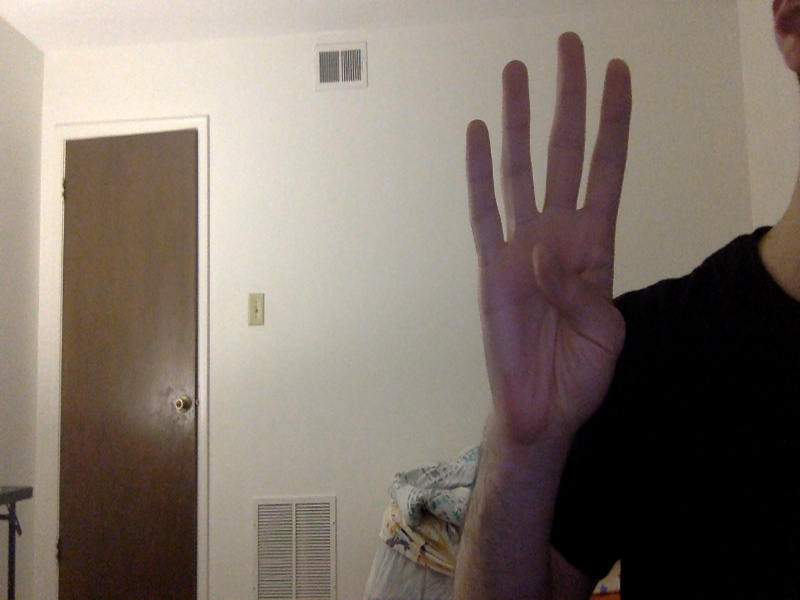4-hand: (465, 33, 633, 440)
